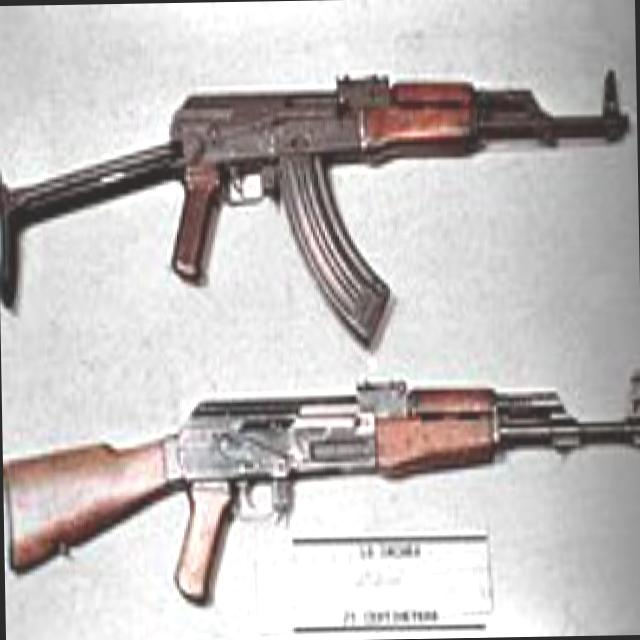long weapon: (3, 354, 639, 608)
